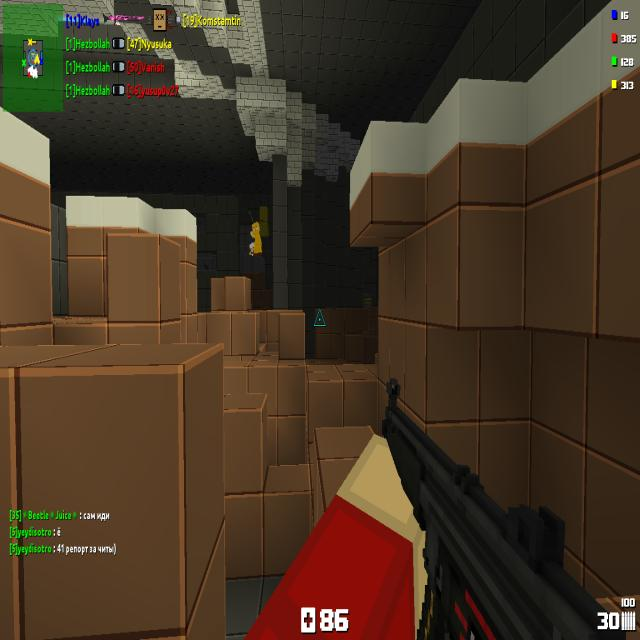enemy: (251, 222, 262, 256), (249, 242, 255, 256)
